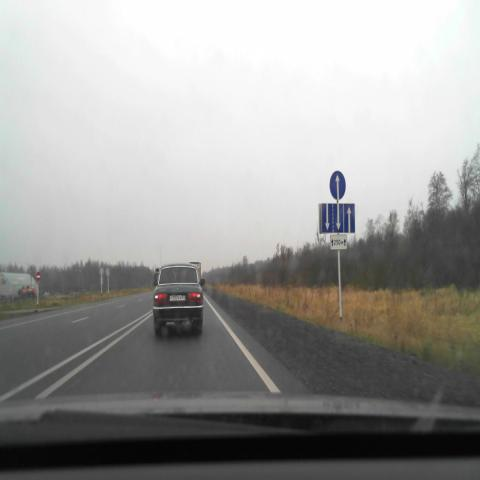5_15_7: (321, 202, 355, 232)
